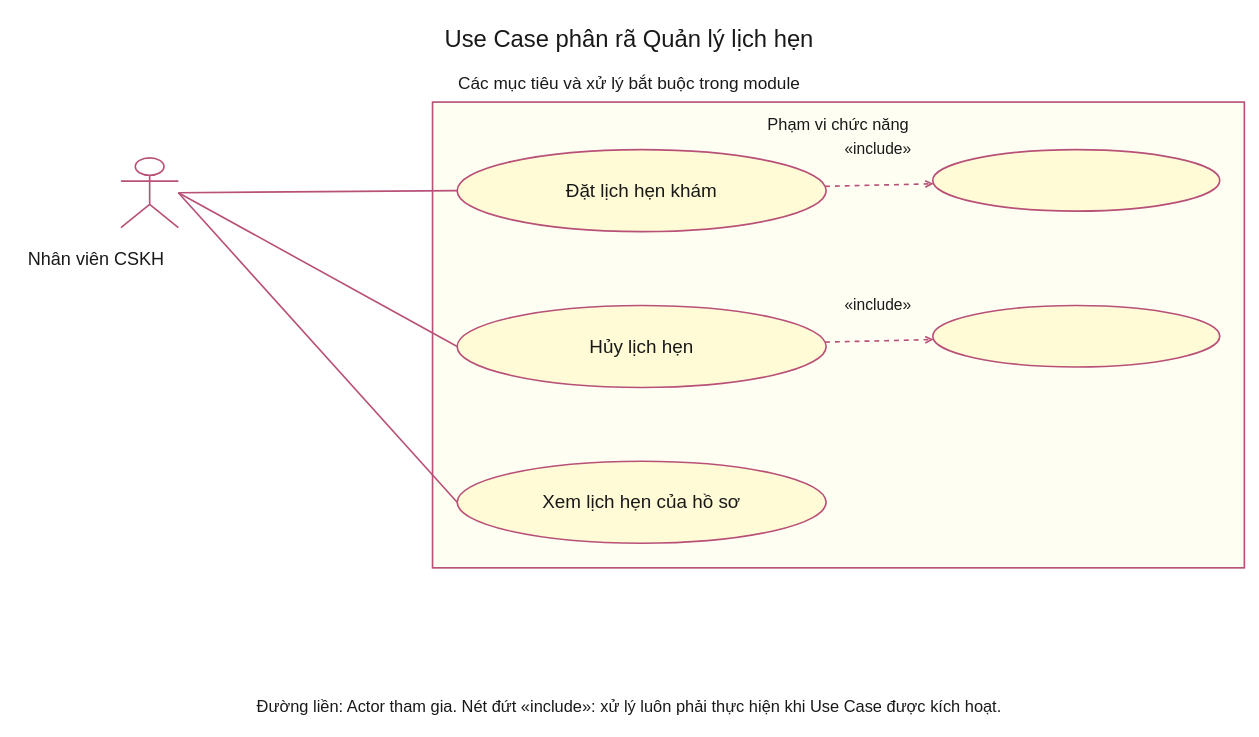
The diagram is 1259 pixels wide and 737 high, and some of its shapes have lost their labels. The box of each missing label's shape, as (x1, y1, x2, y2) in pixels:
Kiểm tra trùng lịch theo phút: (932, 148, 1220, 212)
Kiểm tra trạng thái đã hẹn: (932, 304, 1220, 367)
